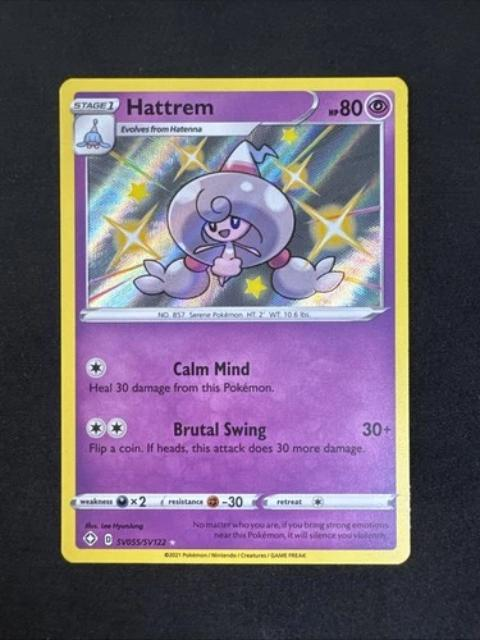Card: (55, 69, 415, 571)
Name: (120, 92, 216, 119)
